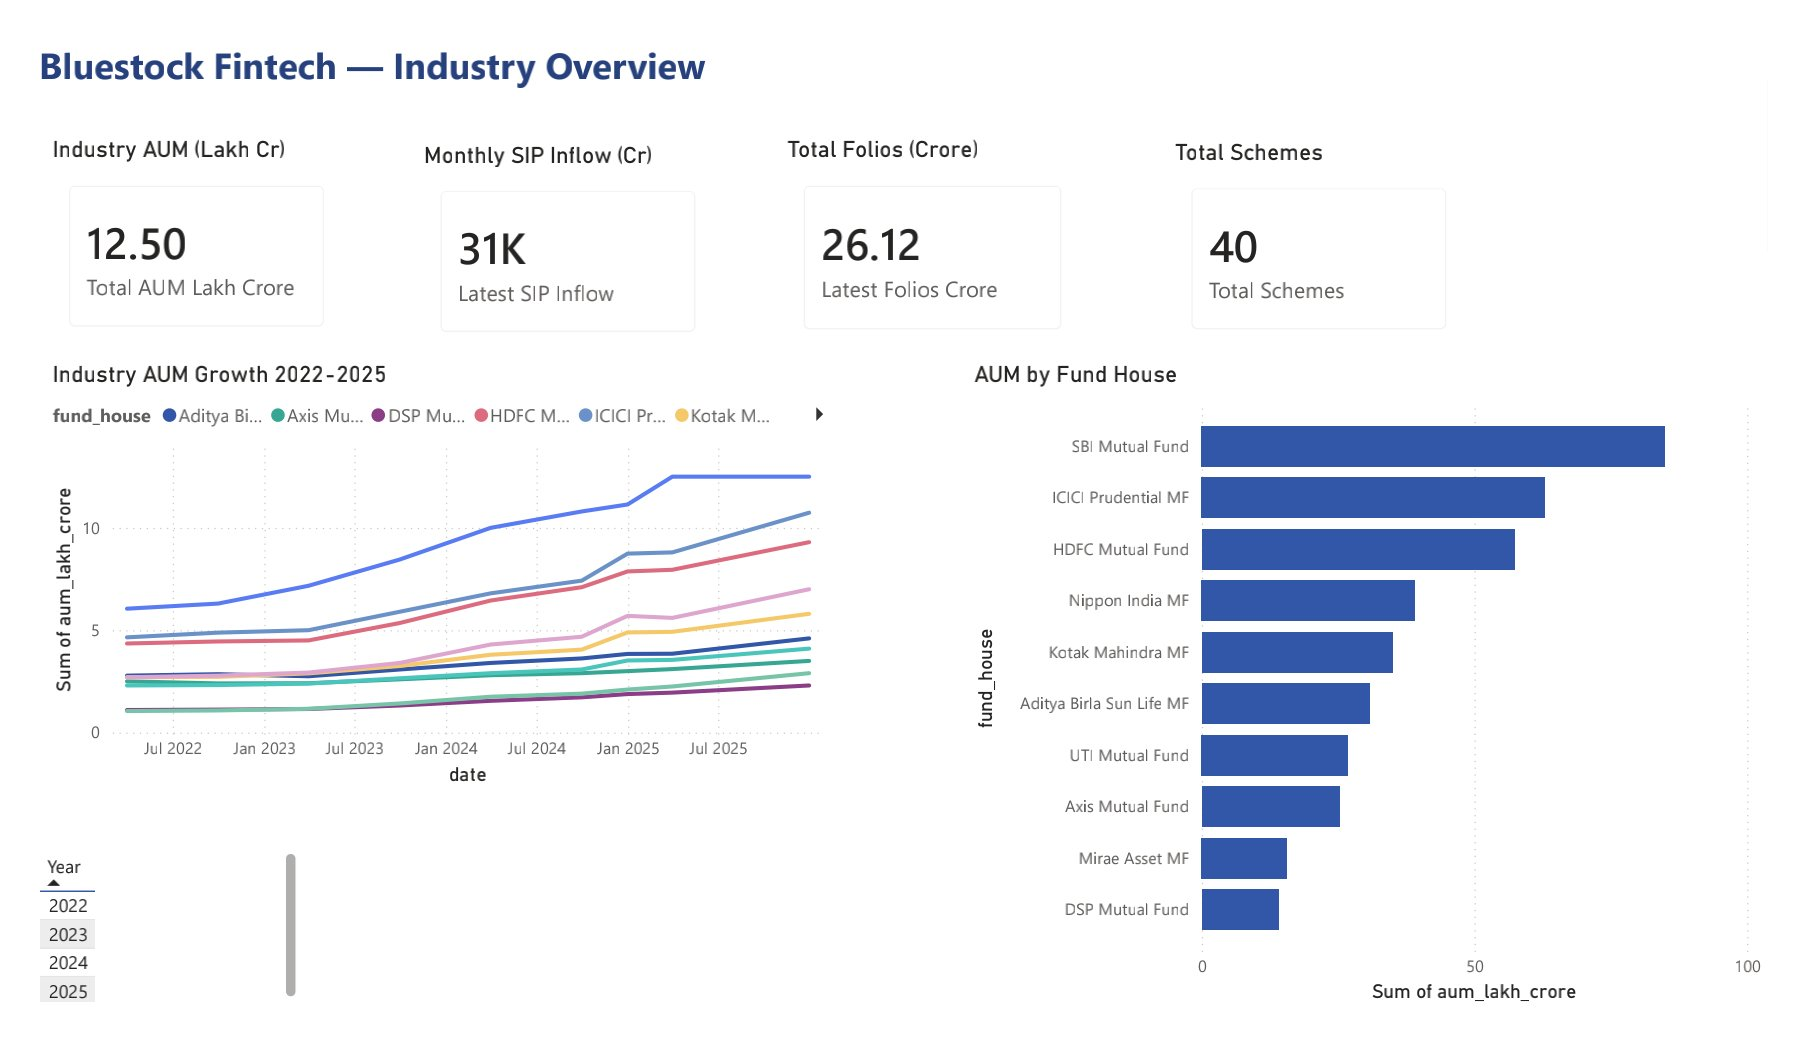

What the dashboard file says about the page in this screenshot:
{"tool":"powerbi","page":{"name":"Industry Overview","canvas":[1280,720],"ordinal":0},"visuals":[{"type":"cardVisual","title":"Industry AUM (Lakh Cr)","fields":{"Data":["clean_fund_master.Total AUM Lakh Crore"]},"box":[10,76,222,158],"z":0},{"type":"cardVisual","title":"Monthly SIP Inflow (Cr)","fields":{"Data":["clean_fund_master.Latest SIP Inflow"]},"box":[284,80,222,158],"z":1000},{"type":"cardVisual","title":"Total Folios (Crore)","fields":{"Data":["clean_fund_master.Latest Folios Crore"]},"box":[552,76,224,160],"z":2000},{"type":"cardVisual","title":"Total Schemes ","fields":{"Data":["clean_fund_master.Total Schemes"]},"box":[838,78,222,158],"z":3000},{"type":"lineChart","title":"Industry AUM Growth 2022-2025","fields":{"Y":["Sum(clean_aum_by_fund_house.aum_lakh_crore)"],"Series":["clean_aum_by_fund_house.fund_house"],"Category":["clean_aum_by_fund_house.date"]},"box":[10,242,590,318],"z":4000},{"type":"clusteredBarChart","title":"AUM by Fund House","fields":{"Category":["clean_aum_by_fund_house.fund_house"],"Y":["Sum(clean_aum_by_fund_house.aum_lakh_crore)"]},"box":[690,242,590,478],"z":5000},{"type":"tableEx","fields":{"Values":["clean_aum_by_fund_house.date.Variation.Date Hierarchy.Year"]},"box":[0,600,200,120],"z":6000},{"type":"textbox","box":[0,0,722,60],"z":7000}]}

Visuals, with their boxes in screenshot pixels (x1, y1, x2, y2), scaled from the page's 1280x720 canvas onto the 1800x1041 screenshot:
"Industry AUM (Lakh Cr)" cardVisual: region(14, 110, 326, 338)
"Monthly SIP Inflow (Cr)" cardVisual: region(399, 116, 712, 344)
"Total Folios (Crore)" cardVisual: region(776, 110, 1091, 341)
"Total Schemes " cardVisual: region(1178, 113, 1491, 341)
"Industry AUM Growth 2022-2025" lineChart: region(14, 350, 844, 810)
"AUM by Fund House" clusteredBarChart: region(970, 350, 1799, 1040)
tableEx - clean_aum_by_fund_house.date.Variation.Date Hierarchy.Year: region(0, 868, 281, 1040)
textbox: region(0, 0, 1015, 87)
